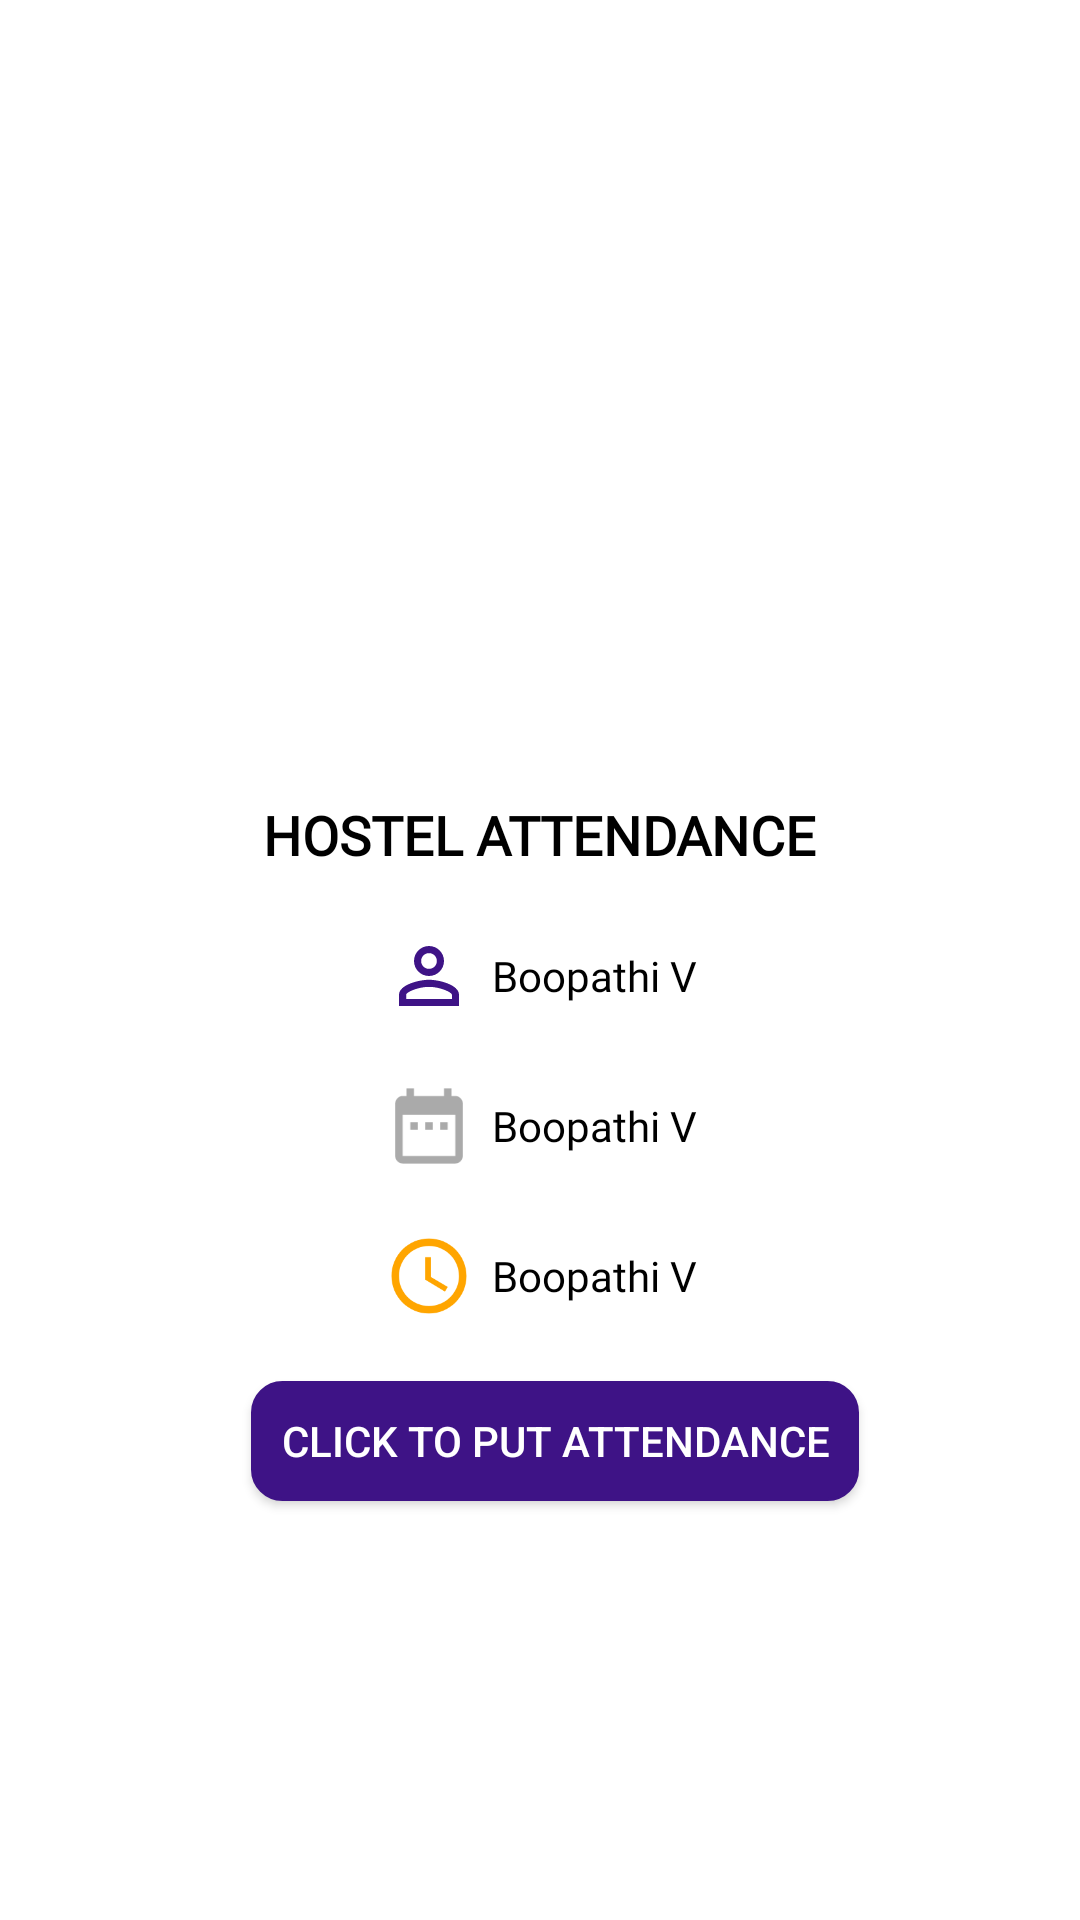

Named icons in this screenshot (1080 × 1920) and their centers, (x=x, y=y):
fromdate: (x=429, y=1126)
person: (x=429, y=976)
totime: (x=429, y=1276)
